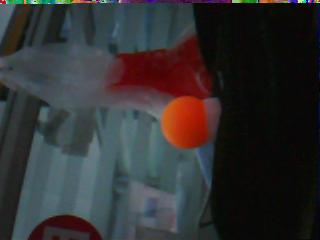oball: (161, 96, 207, 149)
